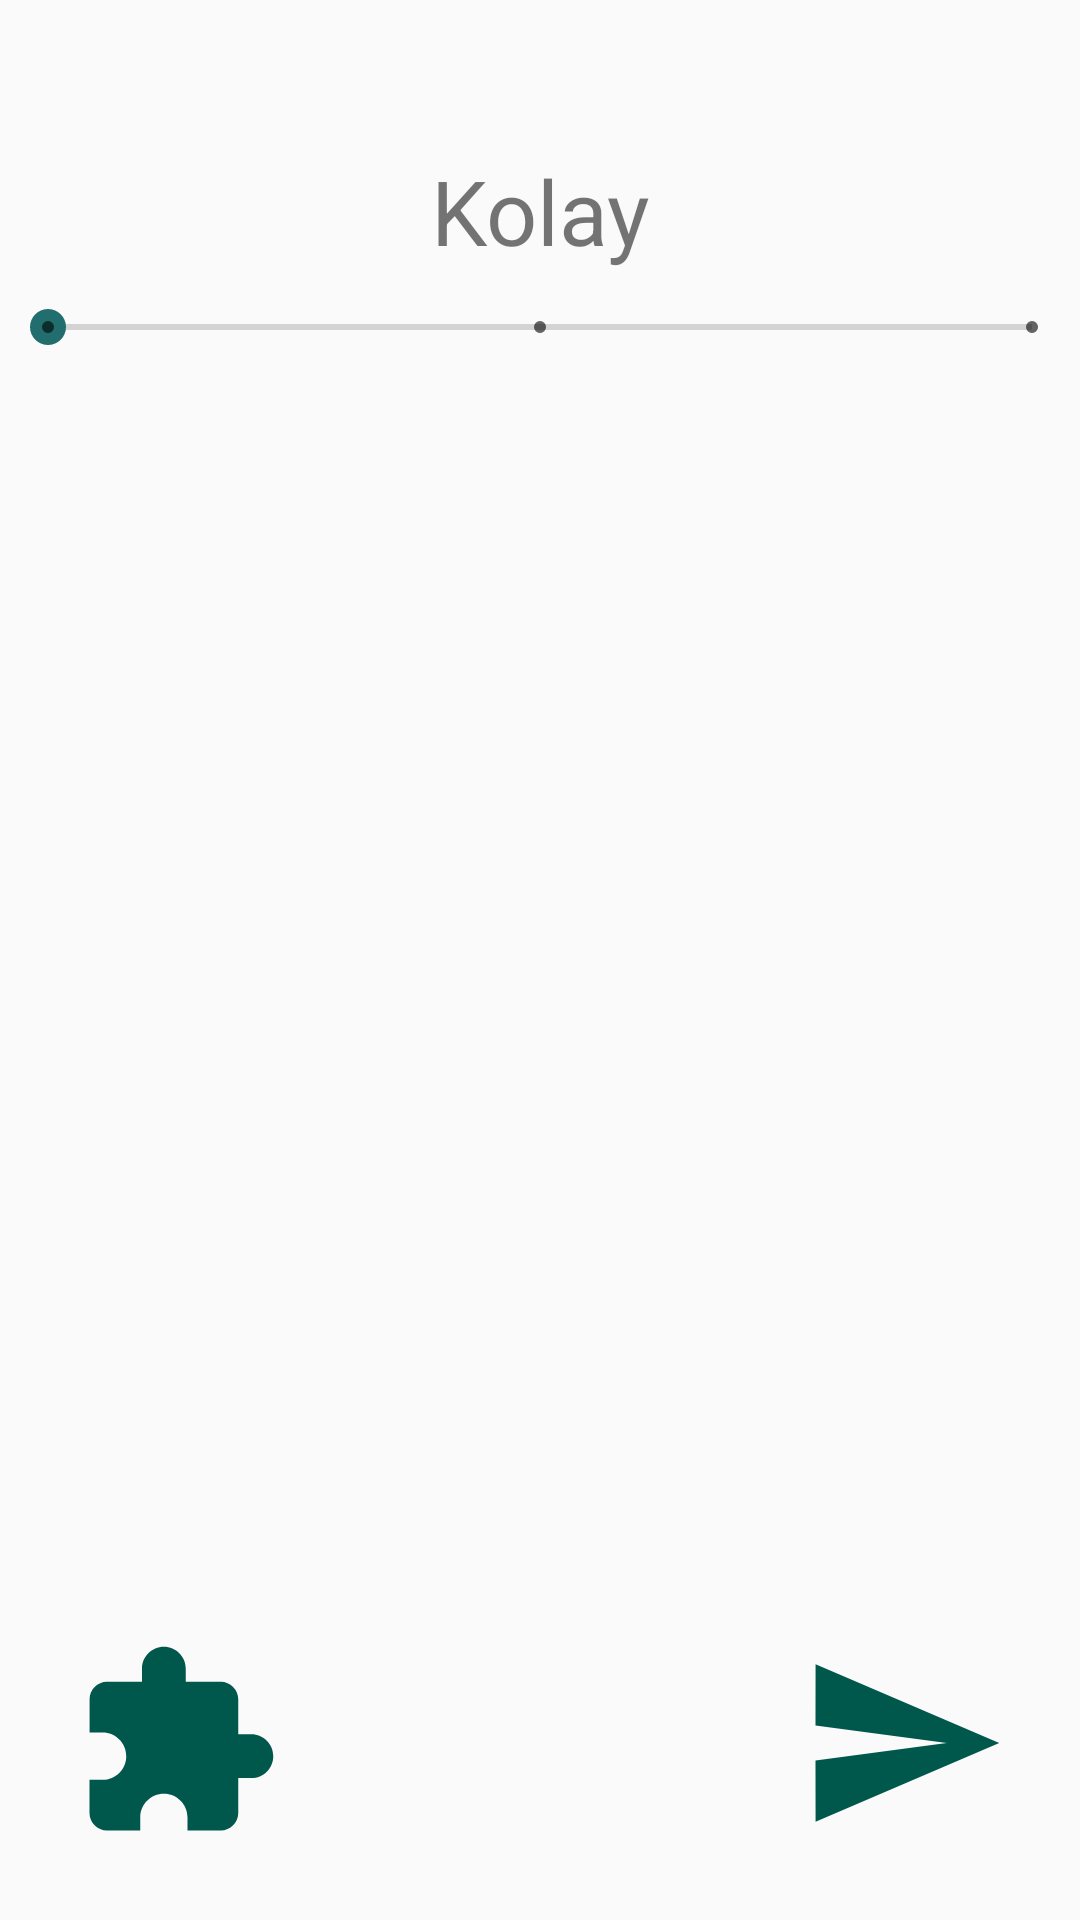

Named icons in this screenshot (1080×1920) and their centers, (x=x, y=y):
puzzle piece: (x=181, y=1738)
send: (x=907, y=1743)
